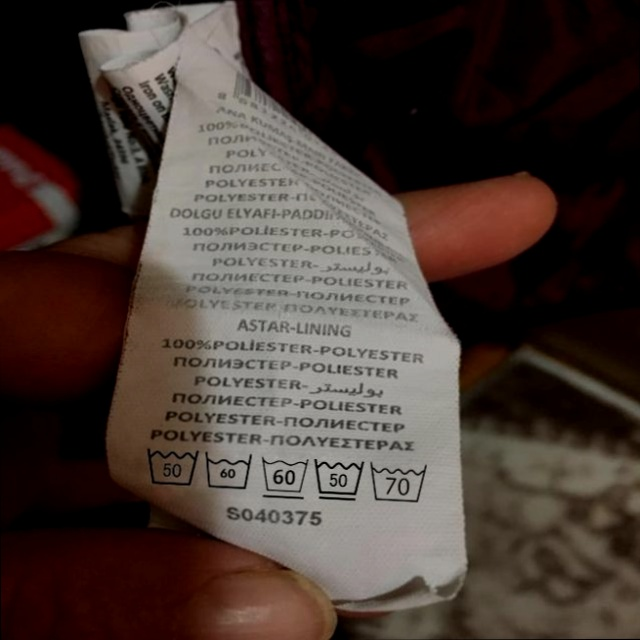50C: (140, 440, 203, 491), (311, 455, 368, 504)
60C: (259, 452, 313, 500), (202, 448, 257, 494)
70C: (370, 460, 434, 505)
